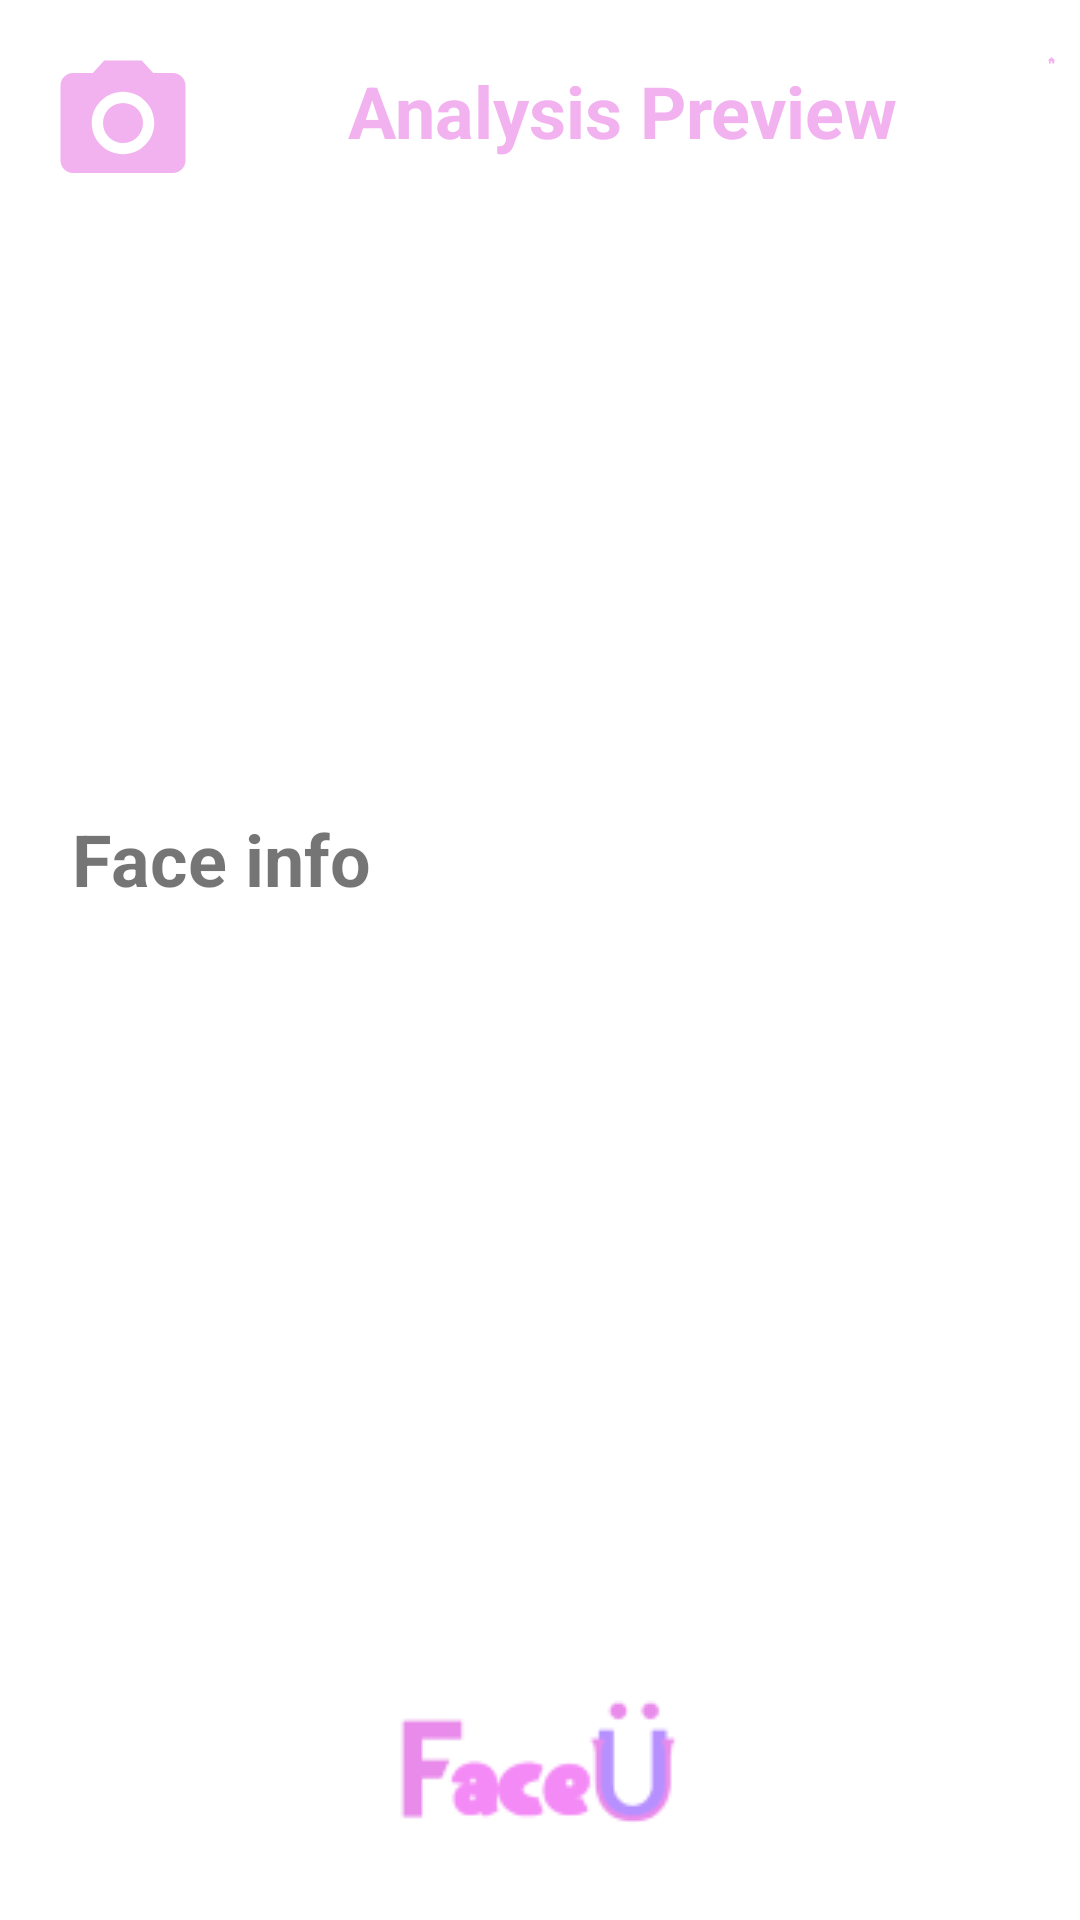

Icons on this 1080×1920 Android screen, each with its box as Rect(x1, y1, x2, y2):
camera: Rect(60, 60, 186, 173)
